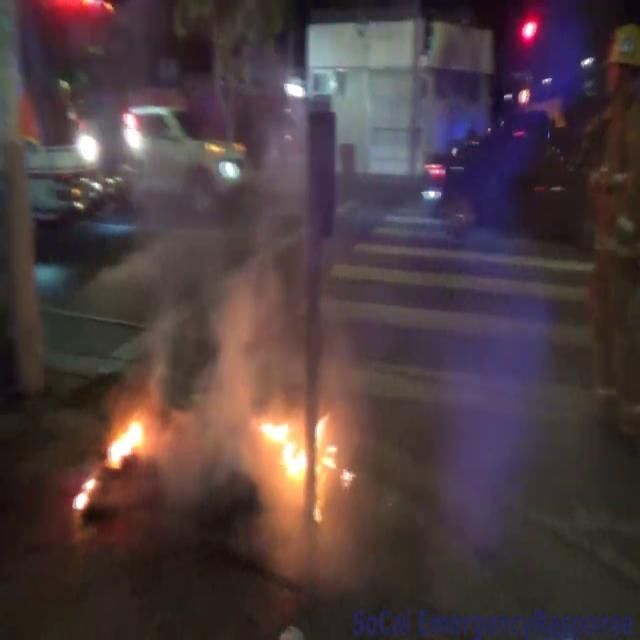Fire: (70, 398, 154, 518), (253, 398, 345, 504), (103, 401, 153, 475)
Smoke: (153, 124, 364, 479)
